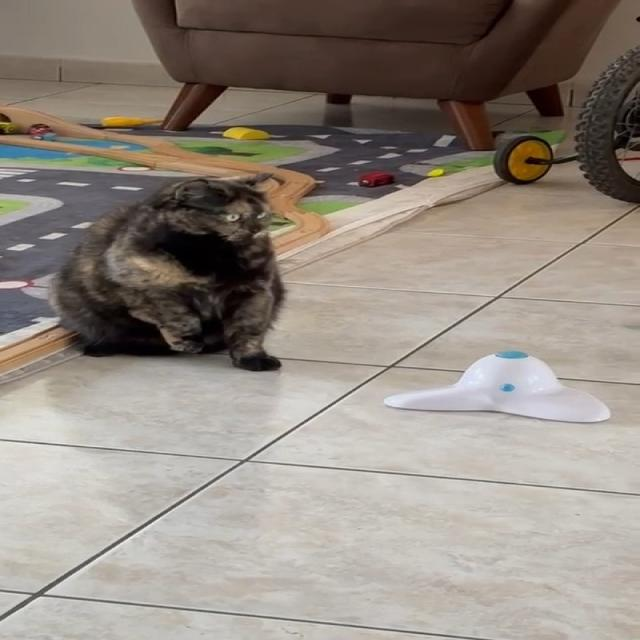authorized: (46, 170, 286, 372)
